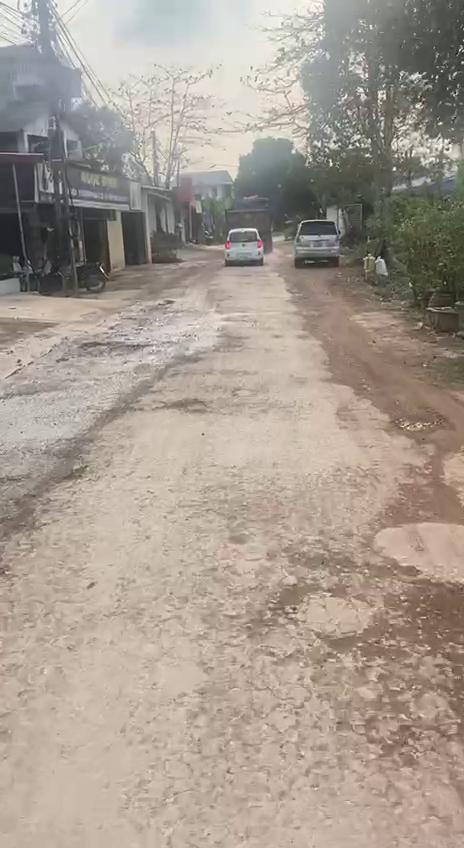pothole: (321, 626, 464, 754), (364, 560, 464, 626), (268, 576, 313, 624)
